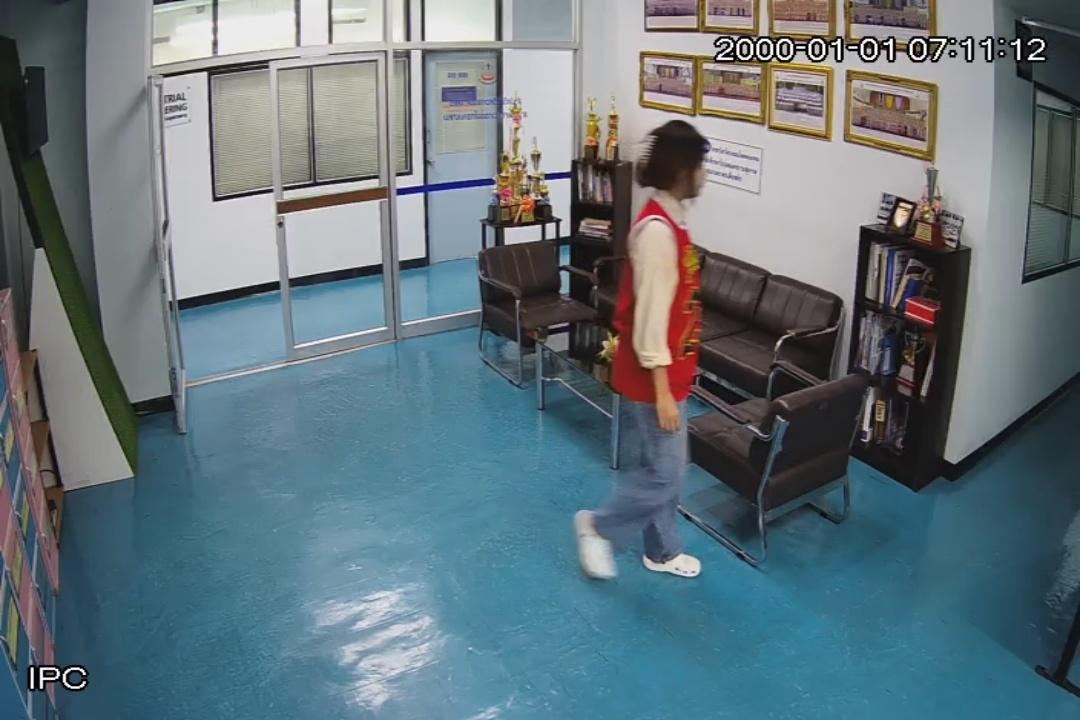normal: (578, 120, 712, 588)
